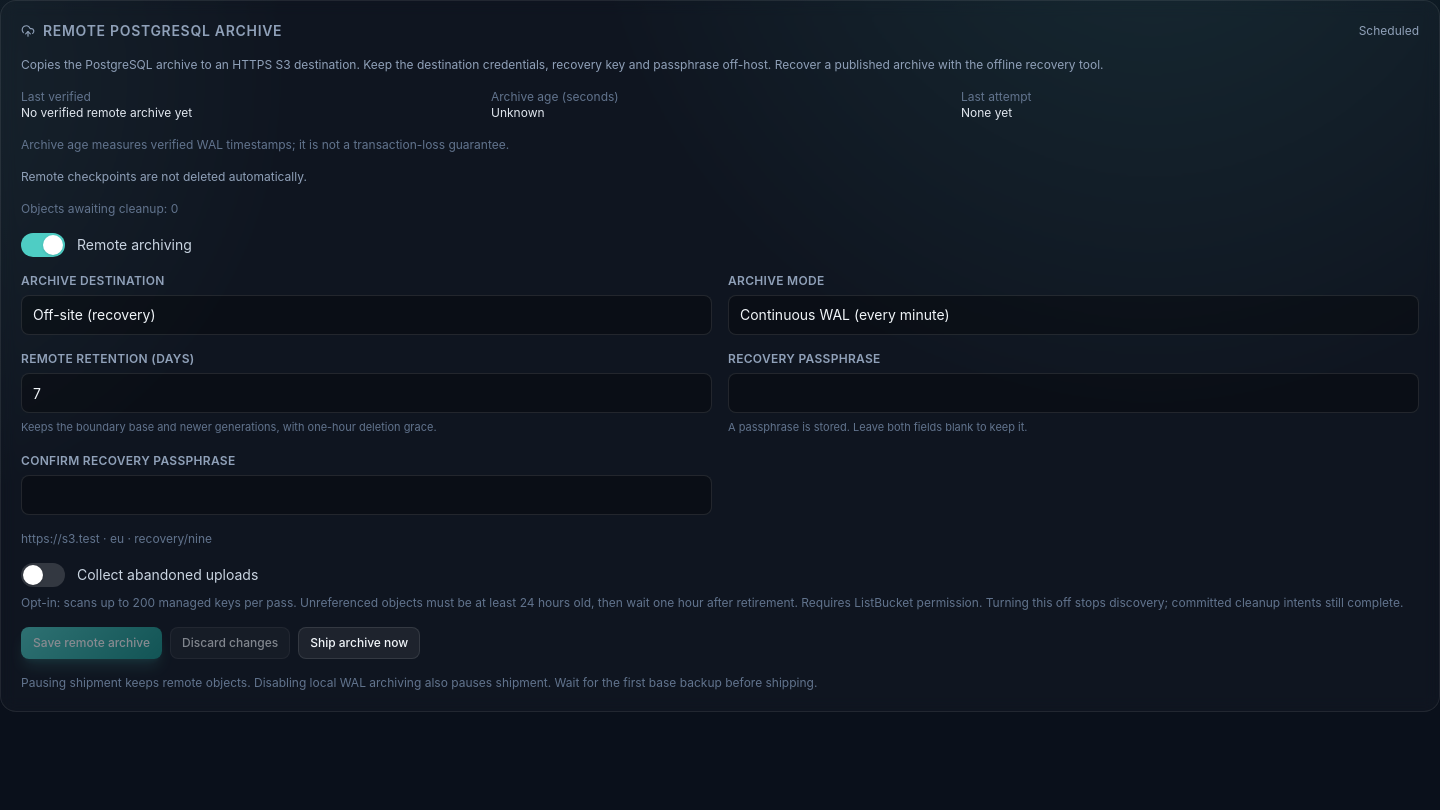
Test case: RemotePitrCard › reports save and shipment failures without claiming a successful archive
The image size is (1440, 810).
expect the dropdown labelled "Archive destination" is shown: met, box [21, 295, 712, 335]
Click the button "Ship archive now".
click(359, 643)  # box [298, 627, 420, 659]
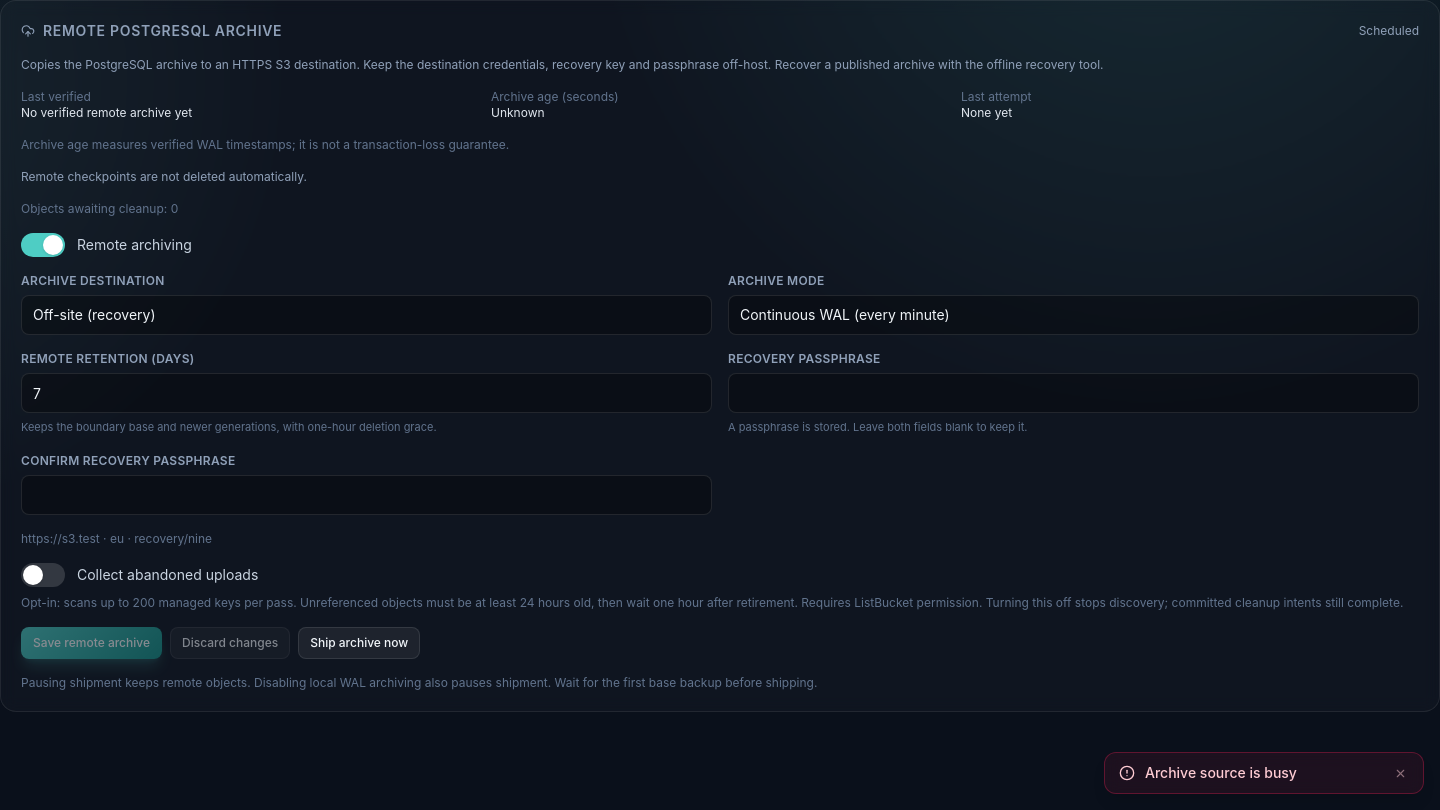
expect the text "Archive source is busy" is shown: met, box [1145, 764, 1297, 781]
Replace the text in the field labelled "Remote retention (days)" with "12" at [366, 393], box [21, 373, 712, 413]
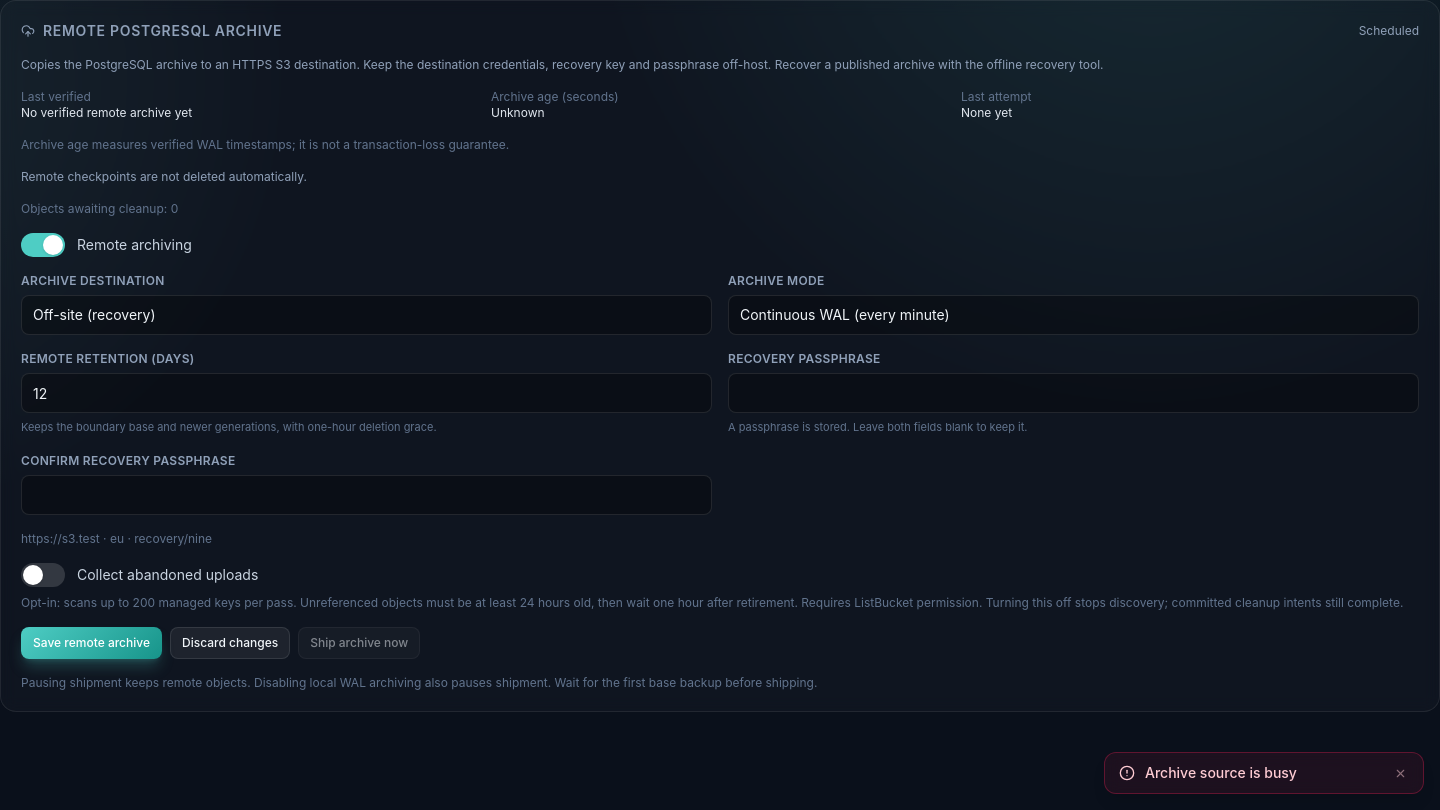
Click the button "Save remote archive".
click(92, 643)  # box [21, 627, 162, 659]
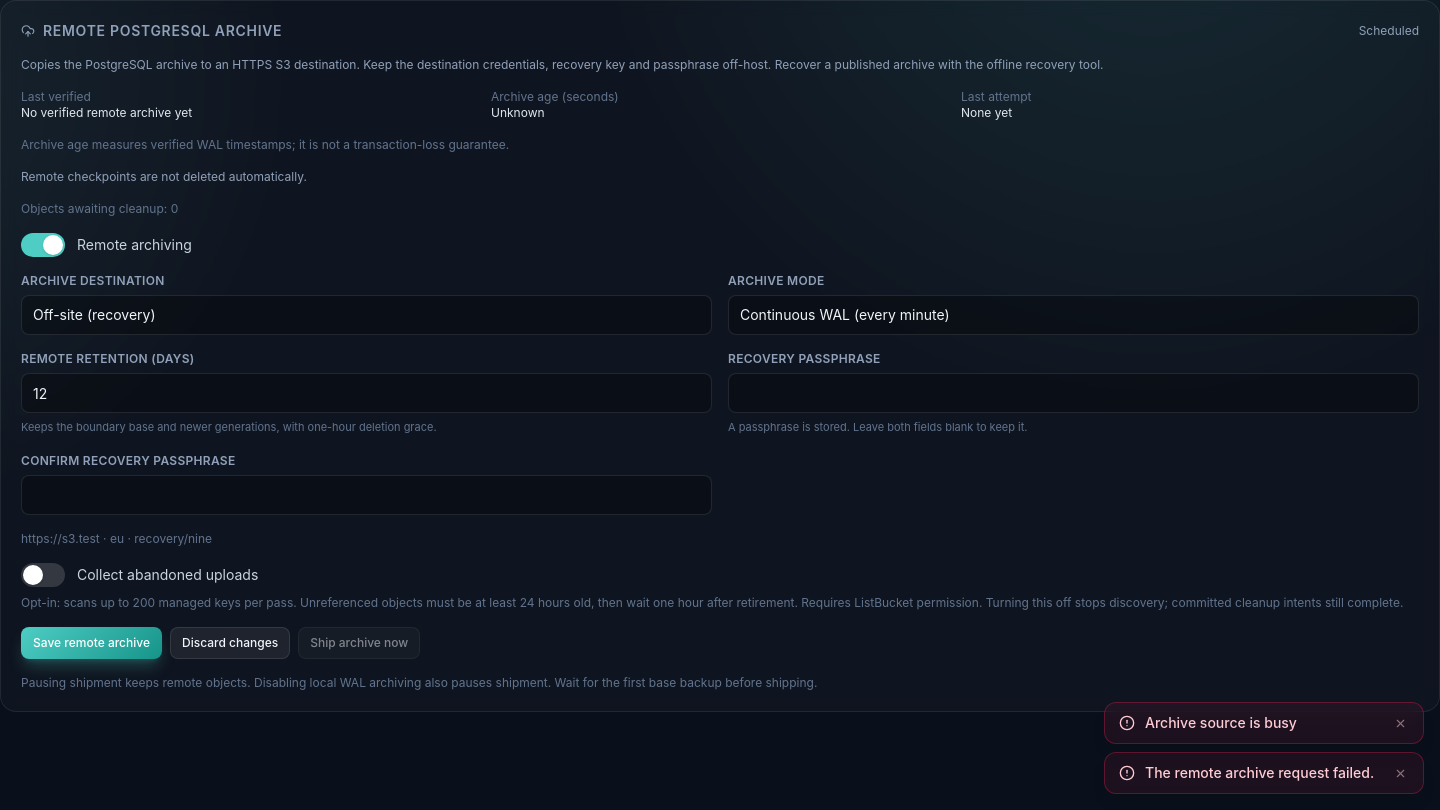
expect the text "The remote archive request failed." is shown: met, box [1145, 763, 1382, 783]
